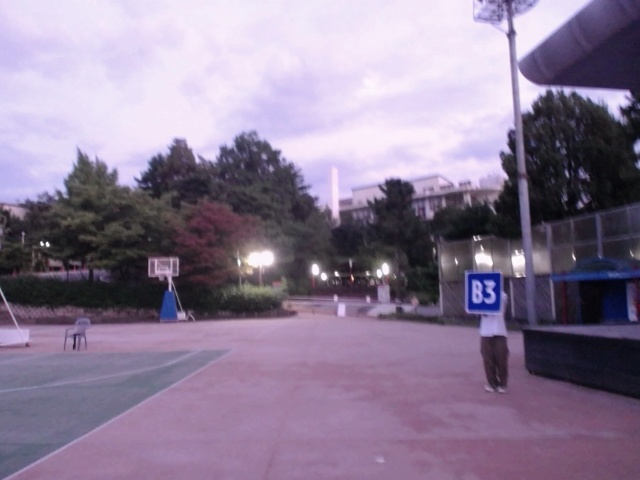delivery_b3: (464, 271, 503, 313)
